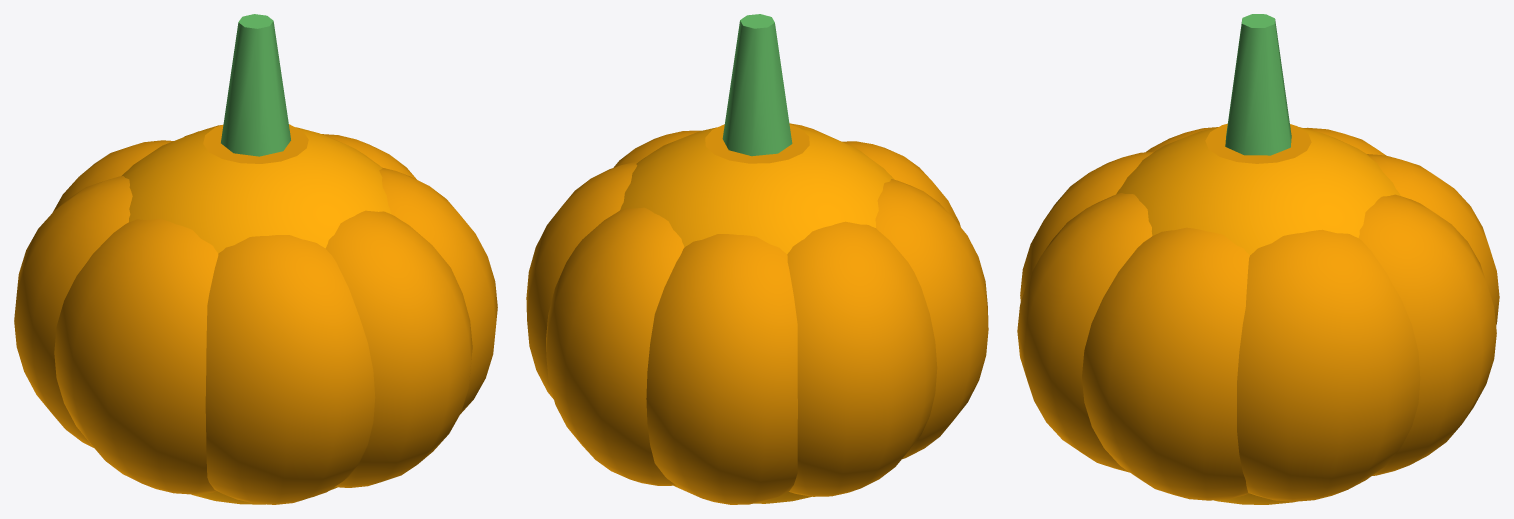
Rendered from pumpkin.glb.
3 renders of one model, left to right at view 1: azimuth 30°, elevation 25°; view 2: azimuth 150°, elevation 25°; view 3: azimuth 270°, elevation 25°, orthographic.
Bounding box in the file's own units: 1.04 × 1.16 × 1.09.
